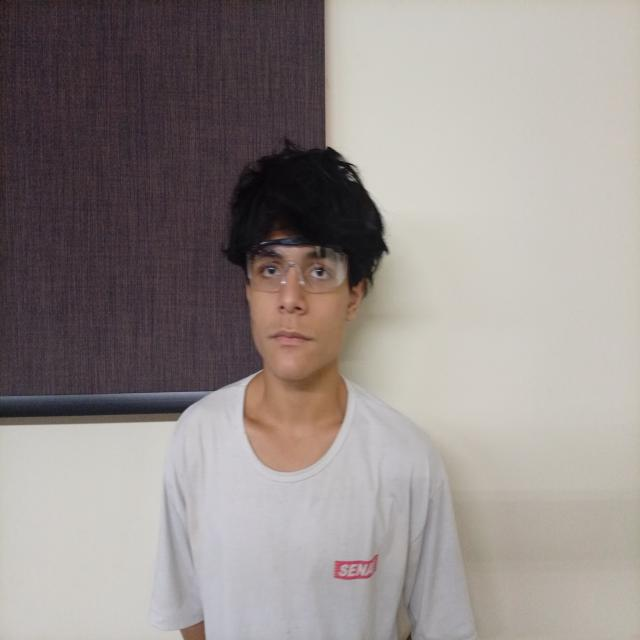oculos-epi: (243, 237, 349, 293)
